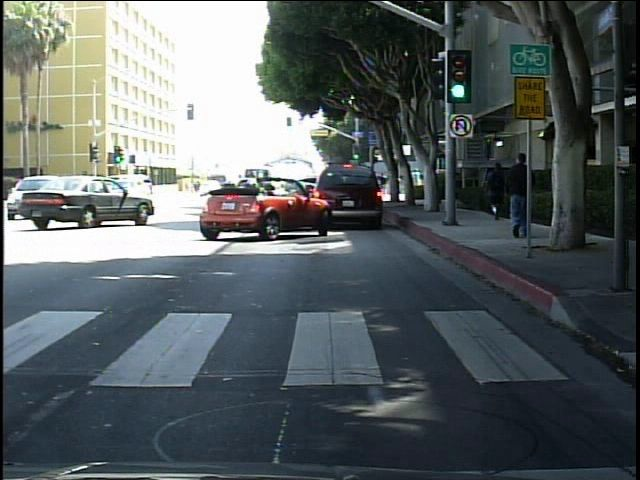person: (490, 134, 547, 253), (486, 157, 510, 222), (409, 164, 425, 199)
